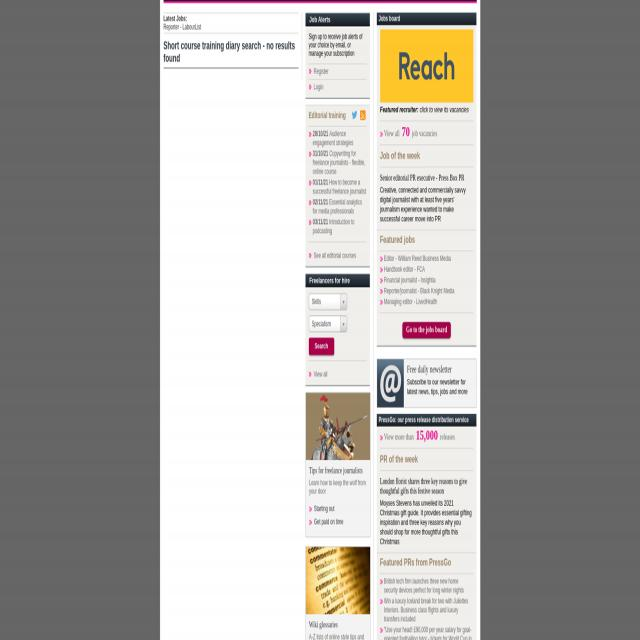button: (380, 29, 473, 102), (306, 393, 370, 460), (306, 551, 370, 610), (377, 360, 403, 407)
field: (308, 338, 334, 355)
